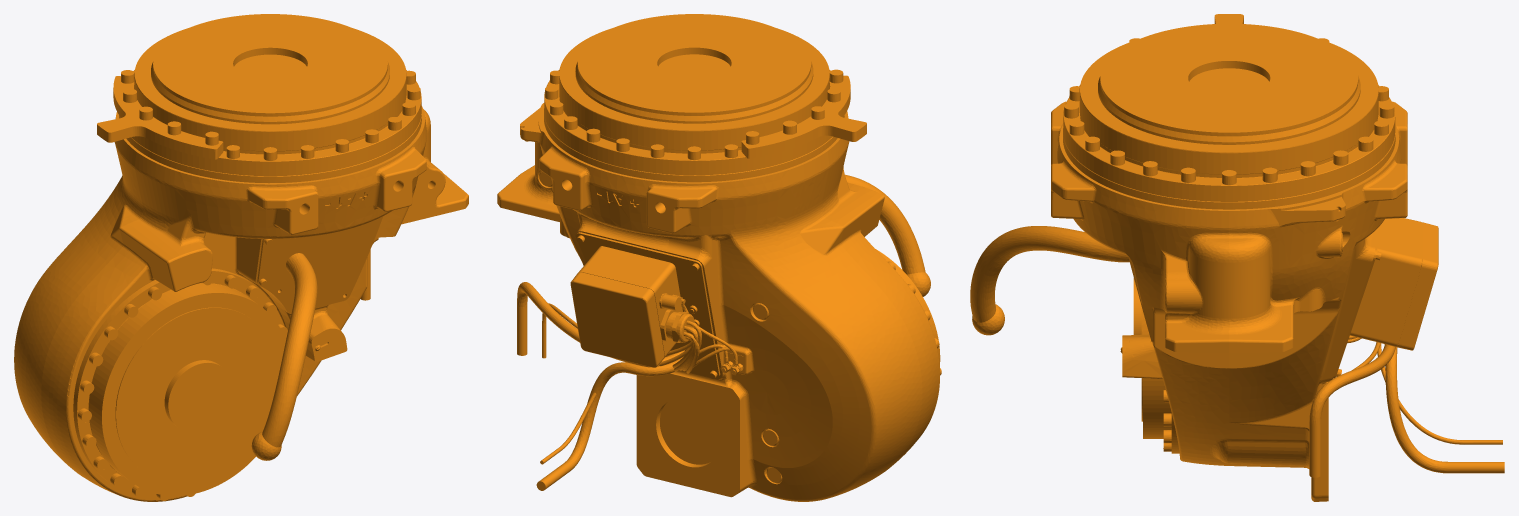
Rendered from kuka1.dae.
3 views of the same model, side by side, from view 1: azimuth 30°, elevation 25°; view 2: azimuth 150°, elevation 25°; view 3: azimuth 270°, elevation 25° (orthographic). The views are drawn at different scales.
Visible parts, largest first — view 1: 1; view 2: 1; view 3: 1.
Boxes of the visible parts, x1,y1,x2,y2 form: 1: (14,14,468,501); 1: (497,14,941,501); 1: (970,14,1504,501).
Bounding box in the file's own units: 0.0625 × 0.0651 × 0.0584.
